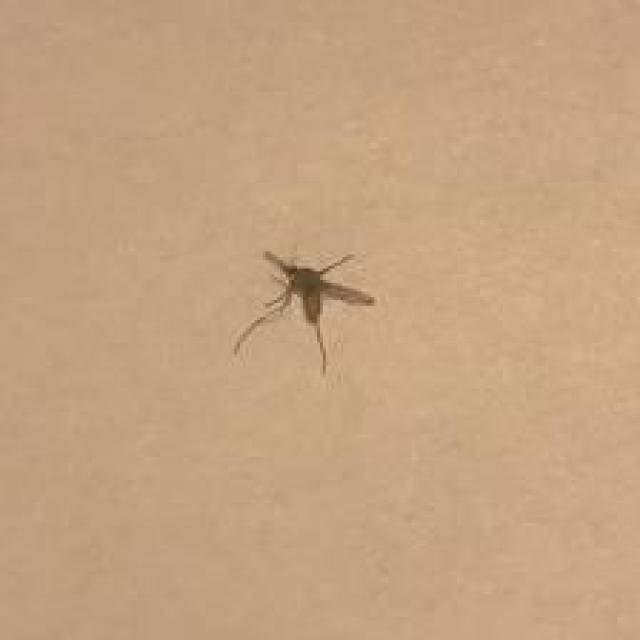Culex: (233, 246, 376, 374)
